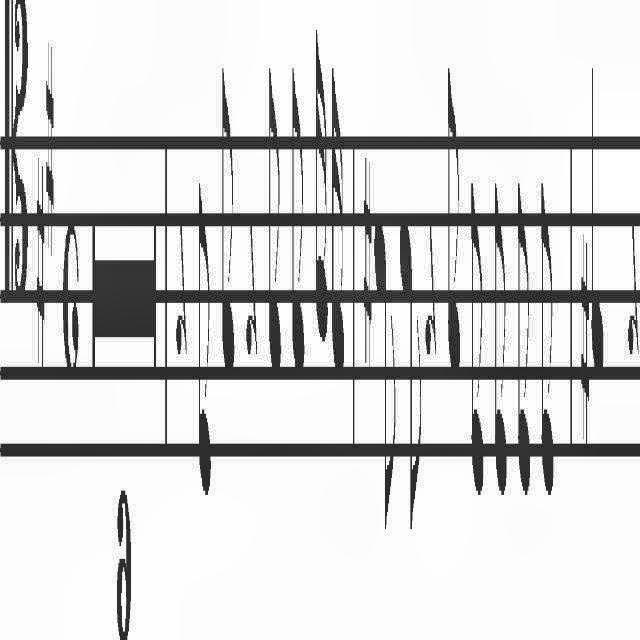Diez: (44, 48, 56, 256), (580, 233, 590, 451), (363, 157, 373, 363), (36, 160, 44, 374)
Eighth-note: (374, 214, 398, 536), (398, 219, 422, 539), (492, 173, 508, 504), (540, 168, 556, 496), (220, 56, 236, 382), (197, 179, 211, 507), (469, 182, 483, 510), (516, 176, 530, 502), (267, 62, 281, 382), (291, 66, 305, 382), (446, 59, 459, 382)
Eighth-rest: (626, 213, 640, 371), (244, 222, 258, 361), (424, 216, 436, 372), (176, 219, 188, 363)
Quarter-note: (590, 56, 606, 382)
Sixteenth-note: (314, 17, 328, 356), (330, 46, 344, 377)
